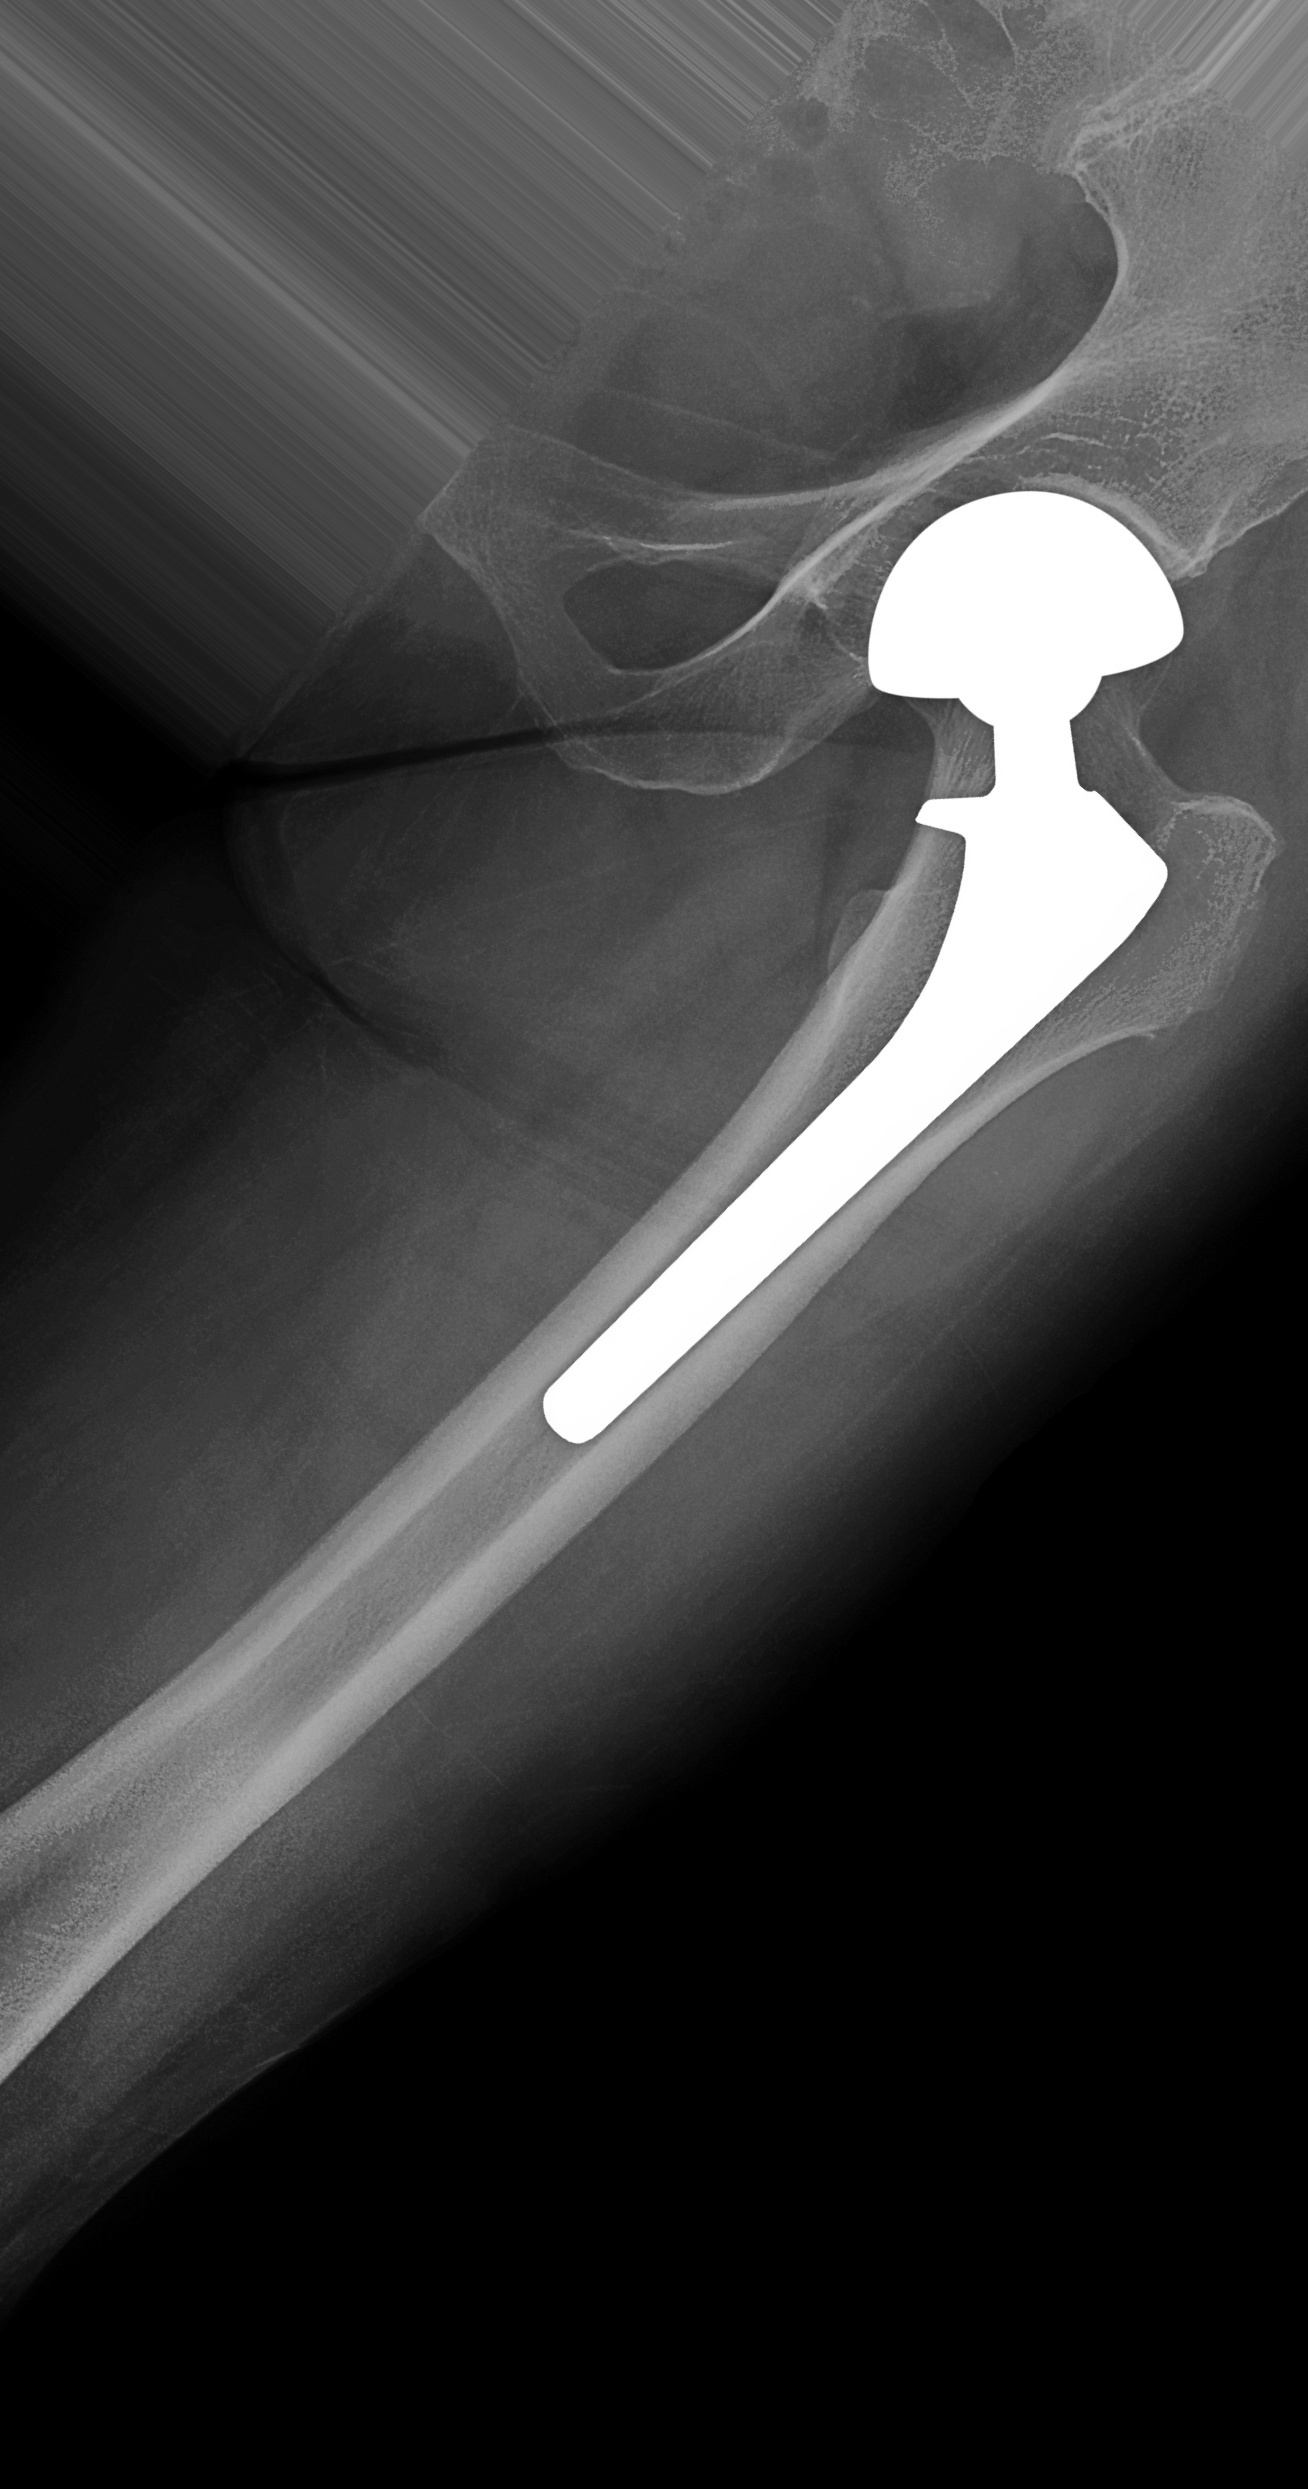Hip - APR - Zimmer: (332, 476, 1213, 1468)
